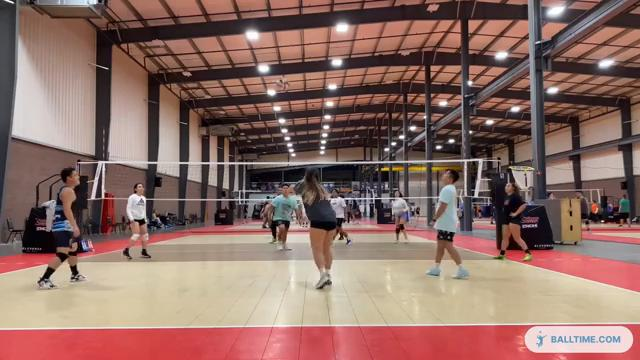difesa: (283, 165, 338, 290)
